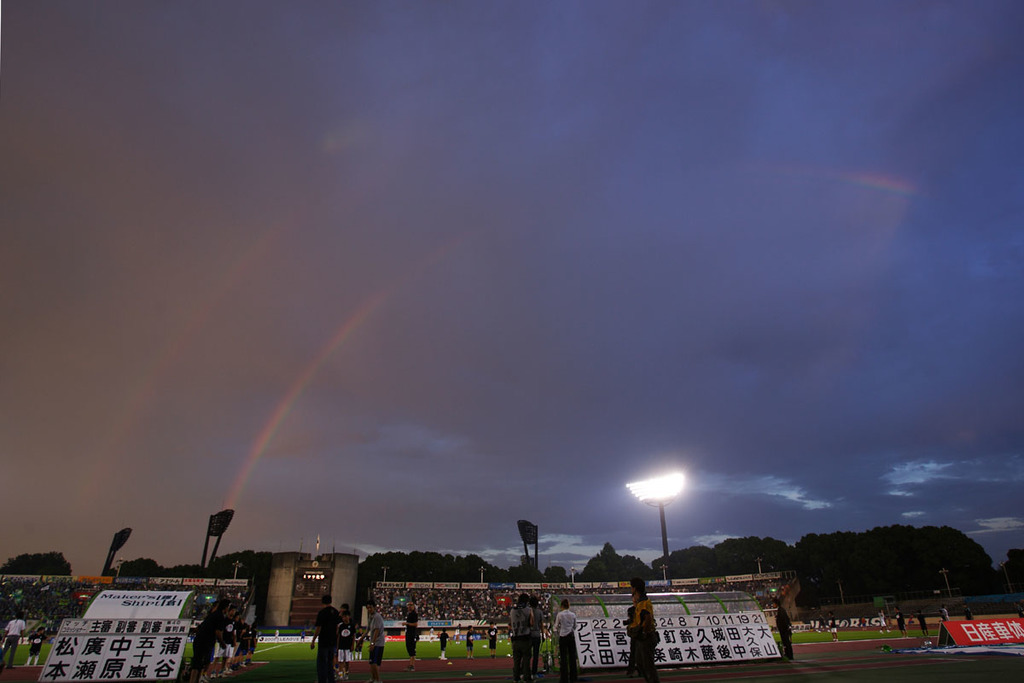Person: (305, 590, 393, 680), (192, 594, 265, 680), (623, 576, 660, 676), (550, 601, 580, 679), (509, 591, 534, 680), (403, 600, 427, 671), (527, 601, 546, 671), (777, 600, 795, 659)
